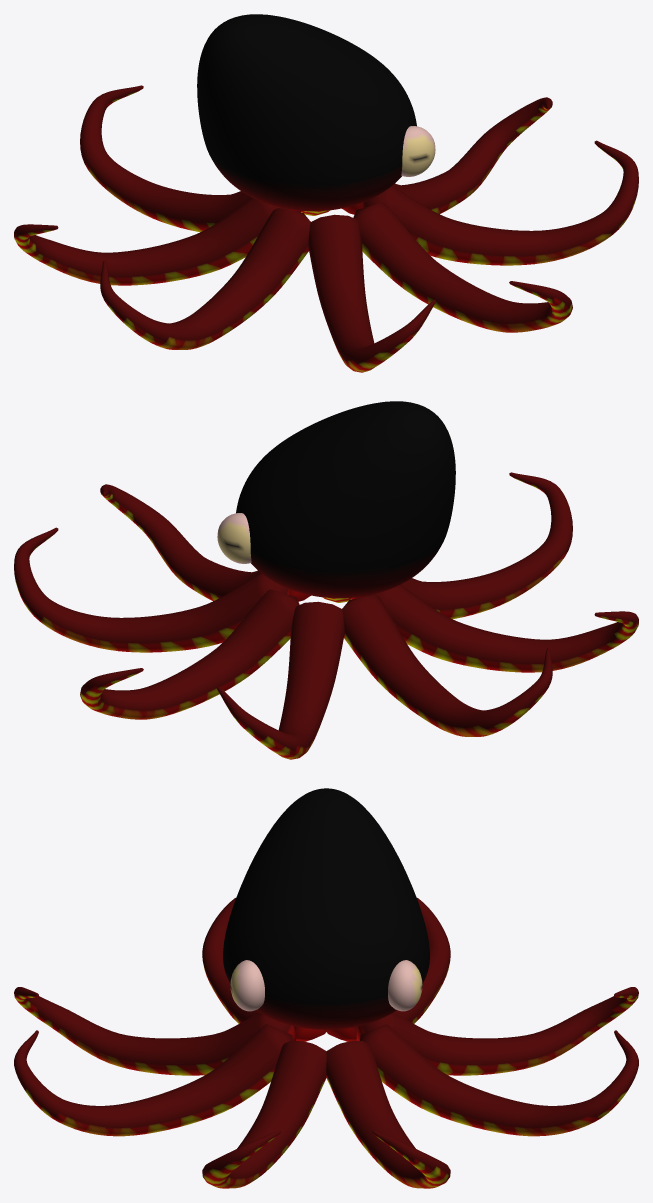
The model's file is octopus.glb.
The picture shows the model from 3 angles, top to bottom: view 1: azimuth 30°, elevation 25°; view 2: azimuth 150°, elevation 25°; view 3: azimuth 270°, elevation 25°; orthographic projection.
Visible parts, largest first — view 1: Octopus, OctopusEyes; view 2: Octopus, OctopusEyes; view 3: Octopus, OctopusEyes.
Boxes of the visible parts, x1,y1,x2,y2 form: Octopus: [14, 14, 638, 372]; OctopusEyes: [401, 126, 435, 176]; Octopus: [14, 401, 638, 759]; OctopusEyes: [217, 513, 251, 563]; Octopus: [14, 788, 638, 1188]; OctopusEyes: [230, 960, 422, 1011].
Bounding box in the file's own units: 1.98 × 0.9698 × 2.04.
